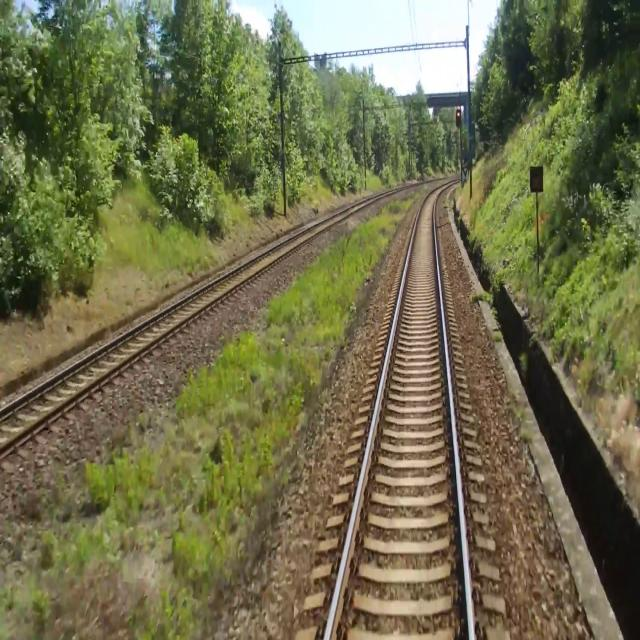rail-track: (0, 187, 406, 446), (328, 179, 468, 639)
